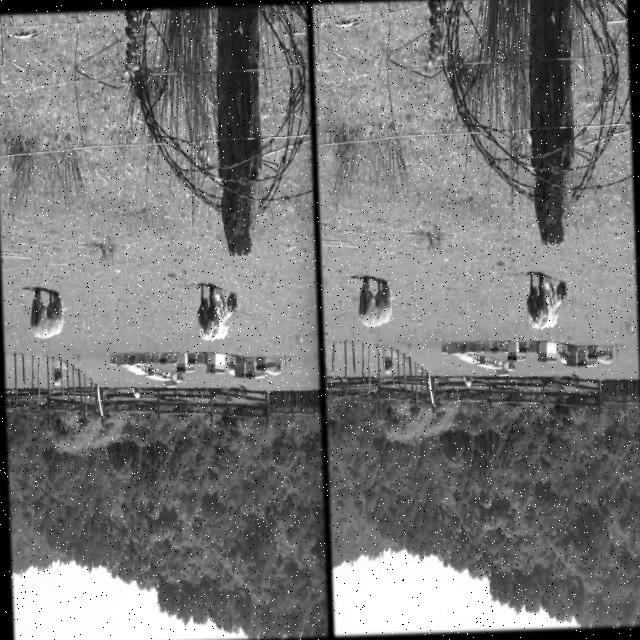sheep: (527, 273, 567, 330), (197, 284, 237, 340), (360, 277, 391, 326), (32, 292, 64, 339)
